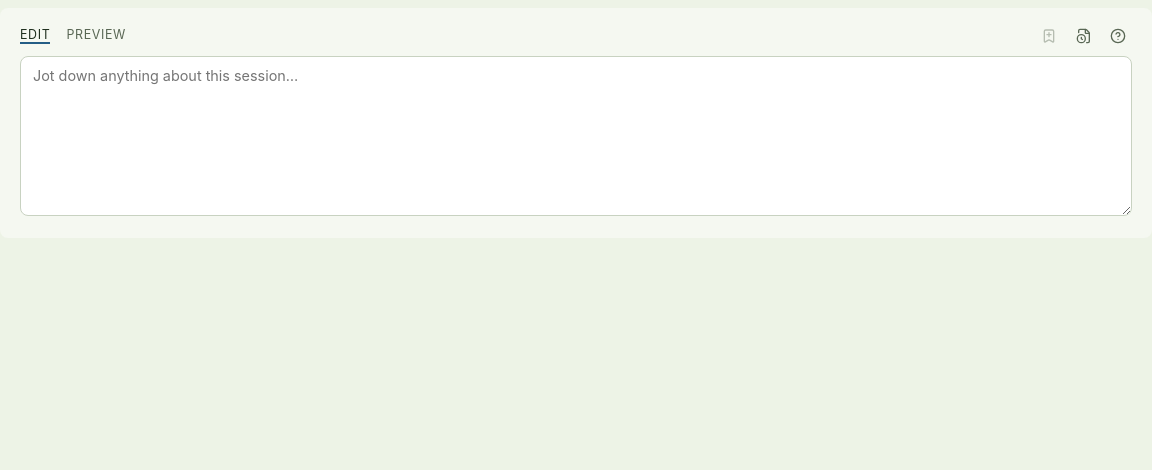
SessionNotes markdown guide › is hidden by default and toggles open/closed on click
Click the button named "Markdown guide" at (1118, 36), box [1104,22,1132,50]
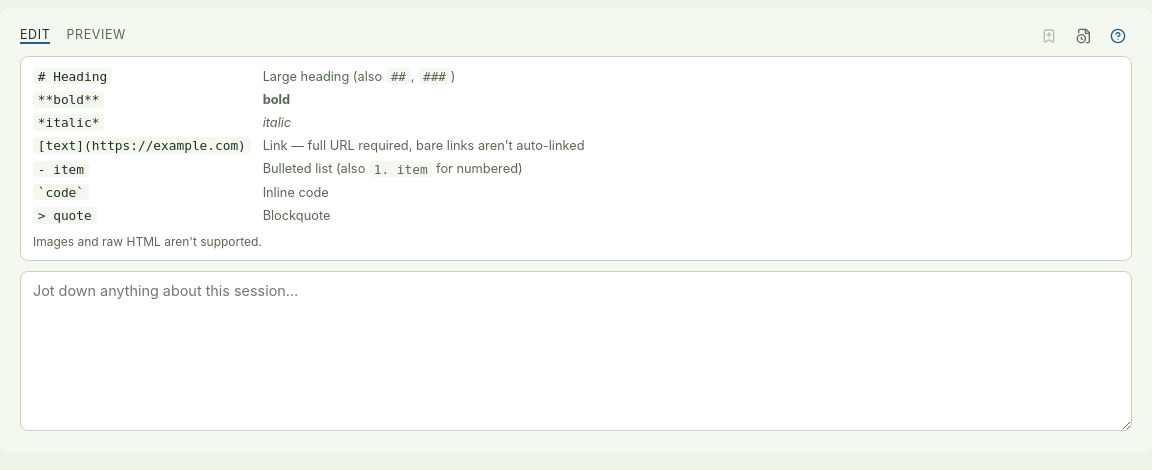
Now the button named "Markdown guide" is expanded
Now the element named "Markdown guide" is shown, box [20,56,1132,262]
Now the text "# Heading" is shown, box [33,68,112,84]
Click the button named "Markdown guide" at (1118, 36), box [1104,22,1132,50]
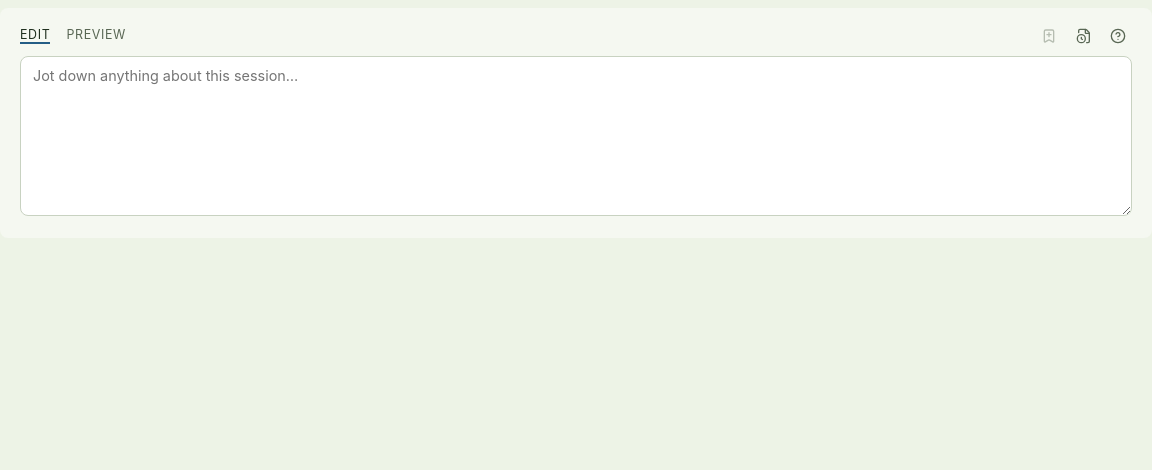
Now the button named "Markdown guide" is collapsed, box [1104,22,1132,50]
